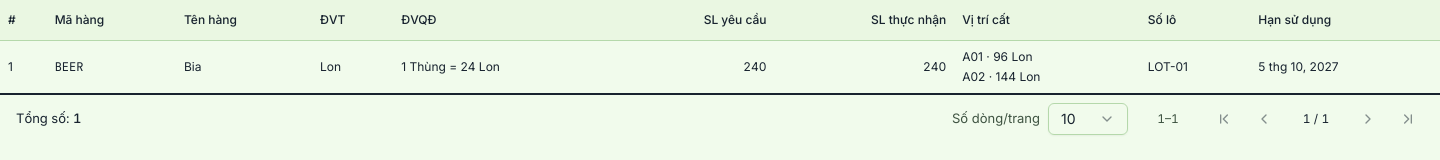
Test case: inbound goods preview › explains SL yêu cầu on hover
Hover over the text named "Số lượng yêu cầu" at coordinates (735, 19), box [704,12,766,27]
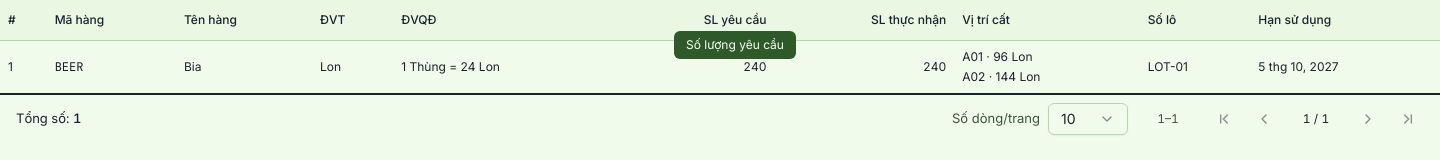
Expected: the tooltip reads "Số lượng yêu cầu", [686,37,784,52]
